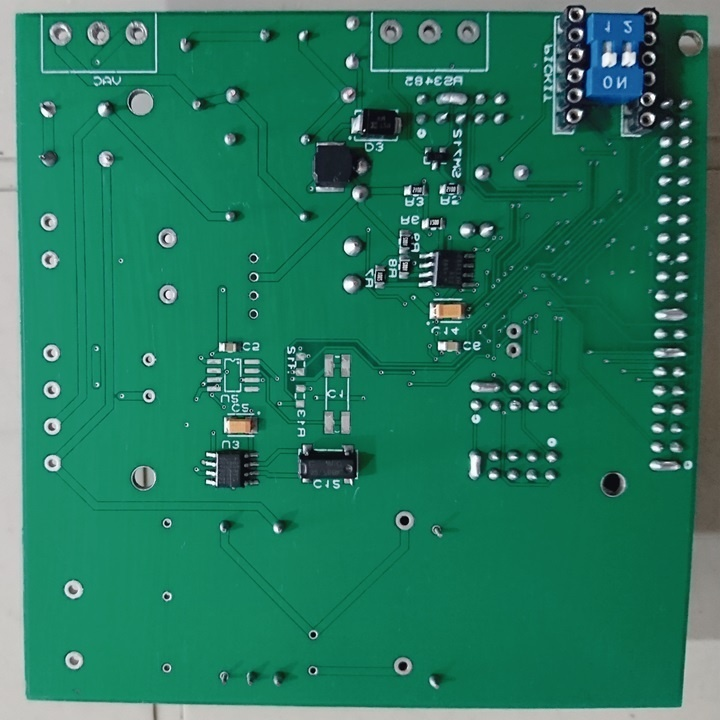F: (416, 17, 444, 47), (121, 18, 148, 49), (46, 20, 74, 49), (454, 18, 481, 46), (153, 224, 180, 251), (86, 20, 111, 49), (379, 18, 404, 47), (156, 281, 180, 310), (61, 578, 87, 602), (40, 378, 63, 403), (96, 146, 116, 173), (393, 654, 415, 678), (63, 649, 85, 673), (393, 508, 415, 531), (41, 342, 62, 366), (511, 160, 532, 183), (39, 247, 59, 271), (38, 210, 59, 232), (41, 415, 61, 438), (36, 98, 59, 118), (42, 452, 62, 473), (339, 83, 358, 105), (344, 14, 361, 34), (504, 321, 521, 340), (140, 352, 159, 369), (215, 669, 232, 687), (507, 338, 520, 360), (305, 626, 320, 643), (342, 54, 359, 69), (430, 523, 444, 541), (142, 388, 156, 406), (246, 269, 261, 285), (246, 249, 260, 266), (245, 288, 259, 303), (247, 306, 259, 323), (161, 588, 172, 606), (160, 516, 173, 531), (160, 660, 172, 675), (308, 664, 320, 678)
P: (434, 88, 469, 109), (465, 446, 484, 484), (652, 344, 690, 363), (647, 455, 684, 474), (653, 306, 690, 324), (469, 378, 504, 395)
